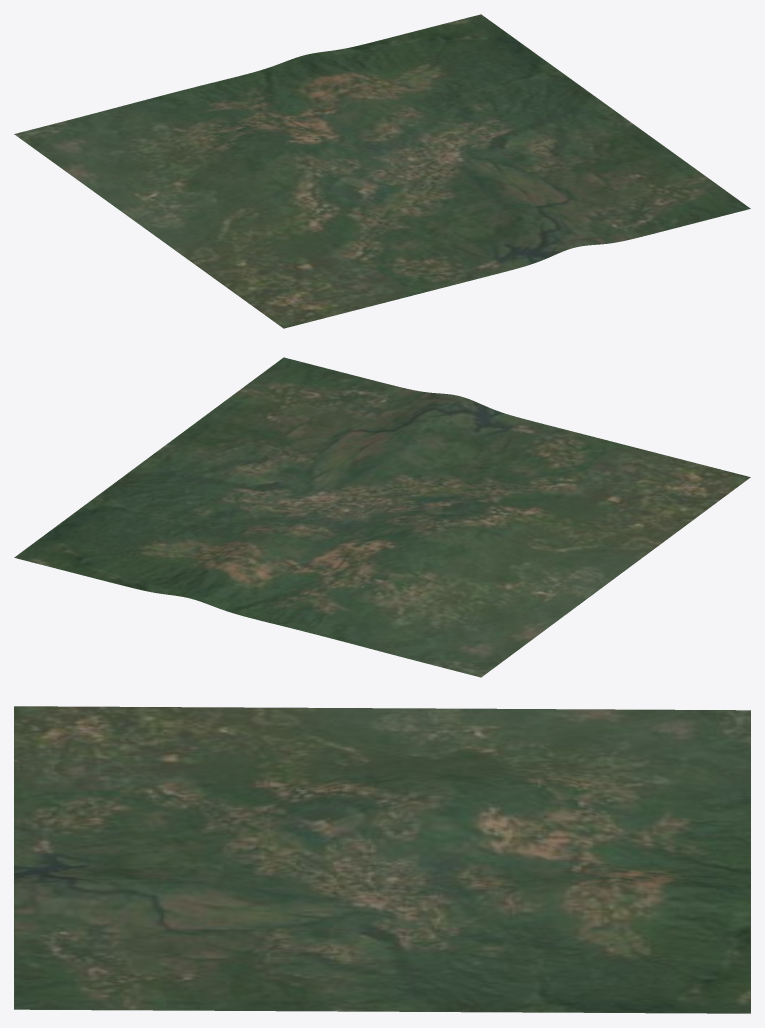
The picture shows the model from 3 angles, top to bottom: view 1: azimuth 30°, elevation 25°; view 2: azimuth 150°, elevation 25°; view 3: azimuth 270°, elevation 25°; orthographic projection. The views are drawn at different scales.
Parts seen in each view (by area): view 1: geometry_0; view 2: geometry_0; view 3: geometry_0.
Part boxes in pixels (left/top/right/bottom): geometry_0: left=14, top=14, right=750, bottom=328; geometry_0: left=14, top=357, right=750, bottom=677; geometry_0: left=14, top=706, right=750, bottom=1013.
Size of the model in its own units: 10000 by 386 by 10000.
Materials: 1 (1 with a texture image).
